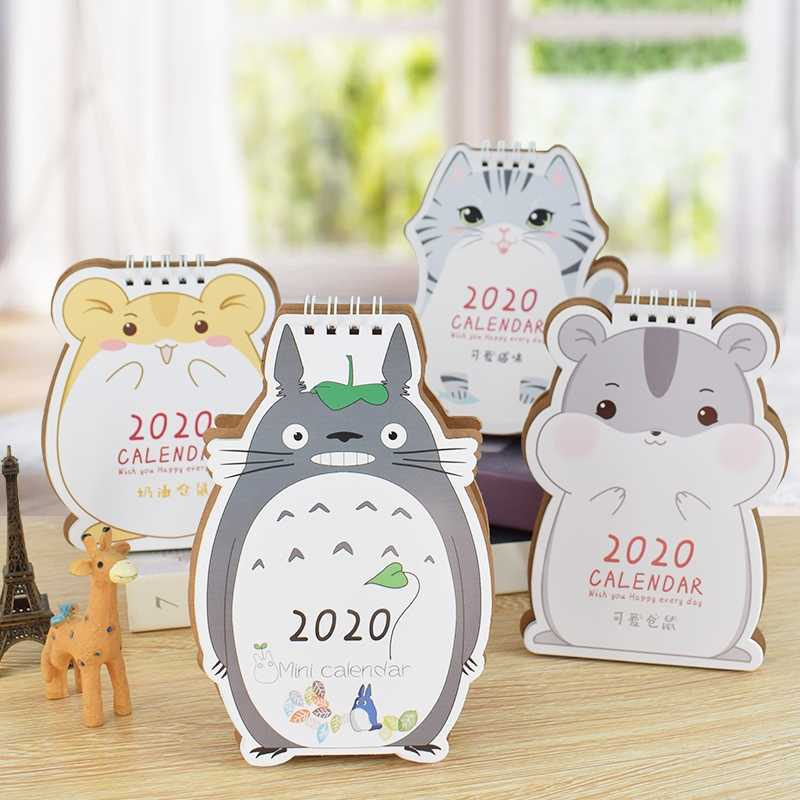Totoro: (192, 301, 491, 767)
